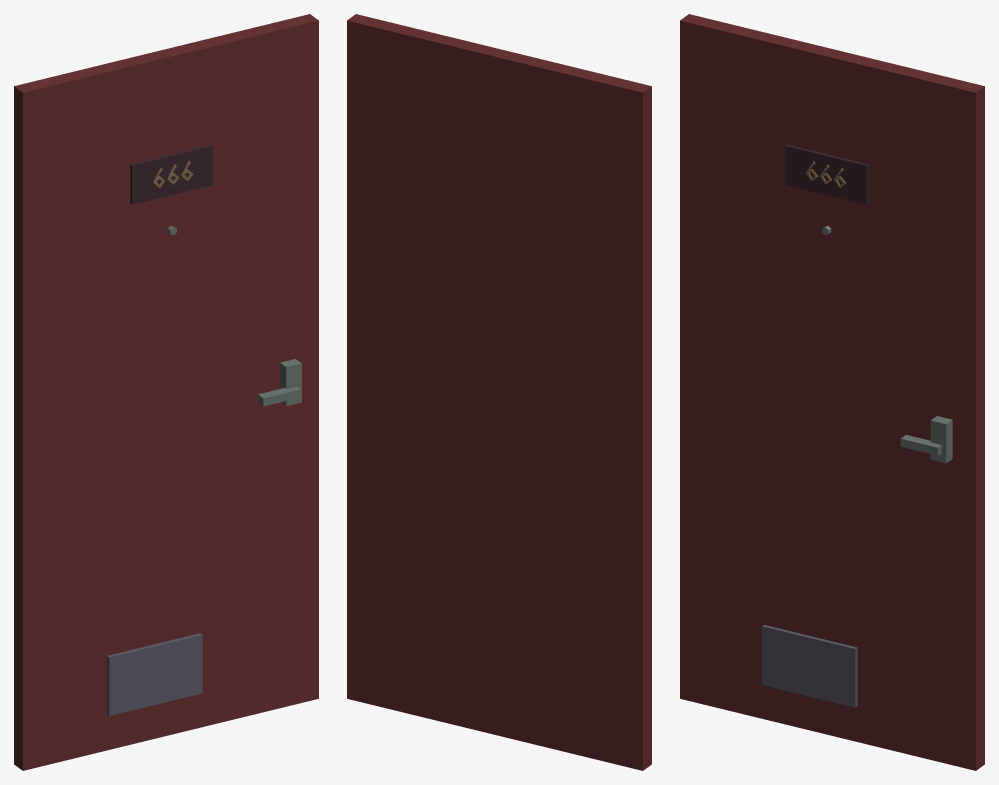
The model's file is usa_666.glb.
3 renders of one model, left to right at view 1: azimuth 30°, elevation 25°; view 2: azimuth 150°, elevation 25°; view 3: azimuth 330°, elevation 25°, orthographic.
Visible parts, largest first — view 1: Usa666; view 2: Usa666; view 3: Usa666.
Part boxes in pixels (bbox=[...]): Usa666: bbox=[14, 14, 318, 770]; Usa666: bbox=[347, 14, 651, 770]; Usa666: bbox=[680, 14, 984, 770].
Bounding box in the file's own units: 0.95 × 2.08 × 0.105.
